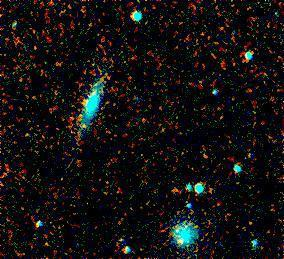star: (24, 27, 54, 57)
